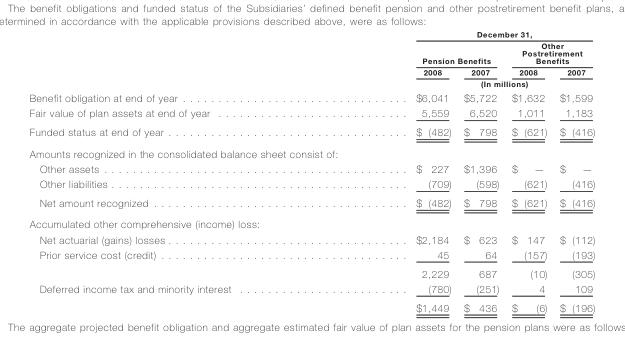table: (28, 29, 594, 312)
table column: (28, 29, 322, 312), (322, 29, 457, 312), (504, 29, 552, 312), (457, 29, 504, 312), (552, 29, 594, 312)
table column header: (28, 29, 594, 89)
table projected row header: (28, 142, 594, 160), (28, 213, 594, 231)
table row: (28, 39, 594, 65), (28, 192, 594, 213), (28, 122, 594, 142), (28, 142, 594, 160), (28, 213, 594, 231), (28, 105, 594, 122), (28, 175, 594, 192), (28, 246, 594, 263), (28, 263, 594, 280), (28, 280, 594, 297), (28, 89, 594, 105), (28, 160, 594, 175), (28, 231, 594, 246), (28, 297, 594, 312), (28, 65, 594, 77), (28, 77, 594, 89), (28, 29, 594, 39)
table spanning cell: (322, 39, 504, 65), (322, 77, 594, 89), (322, 29, 594, 39), (504, 39, 594, 65)
